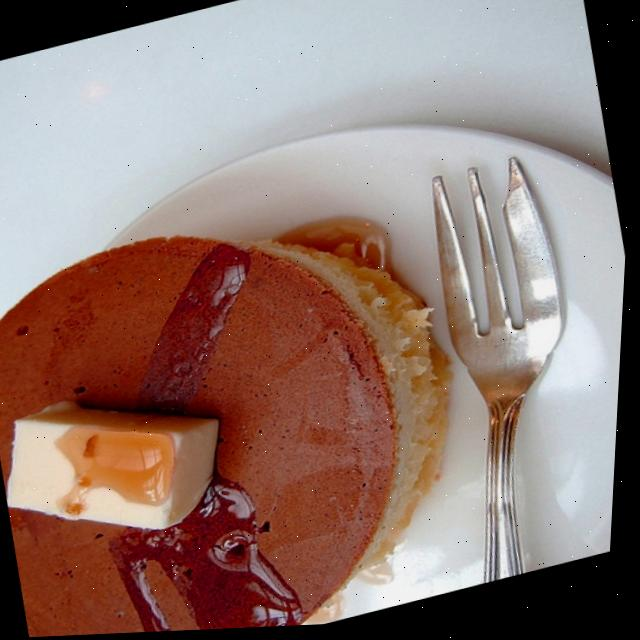蛋糕甜品: (0, 135, 533, 640)
